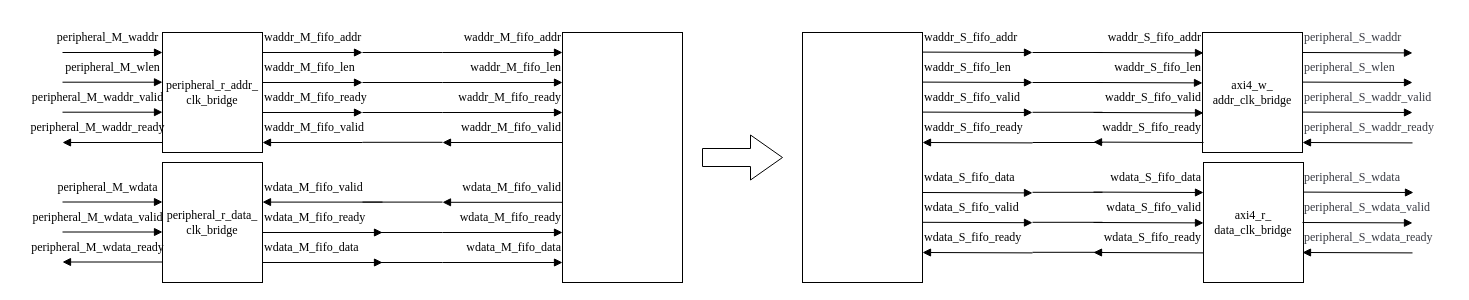
Some shapes in this 1469 by 300 pixel diagram are drawn without their labels. Each missing label, with the centre of its shape:
axi4_full_ master_write_ interface: point (622, 157)
axi4_full_ slave_write_ interface: point (862, 157)
